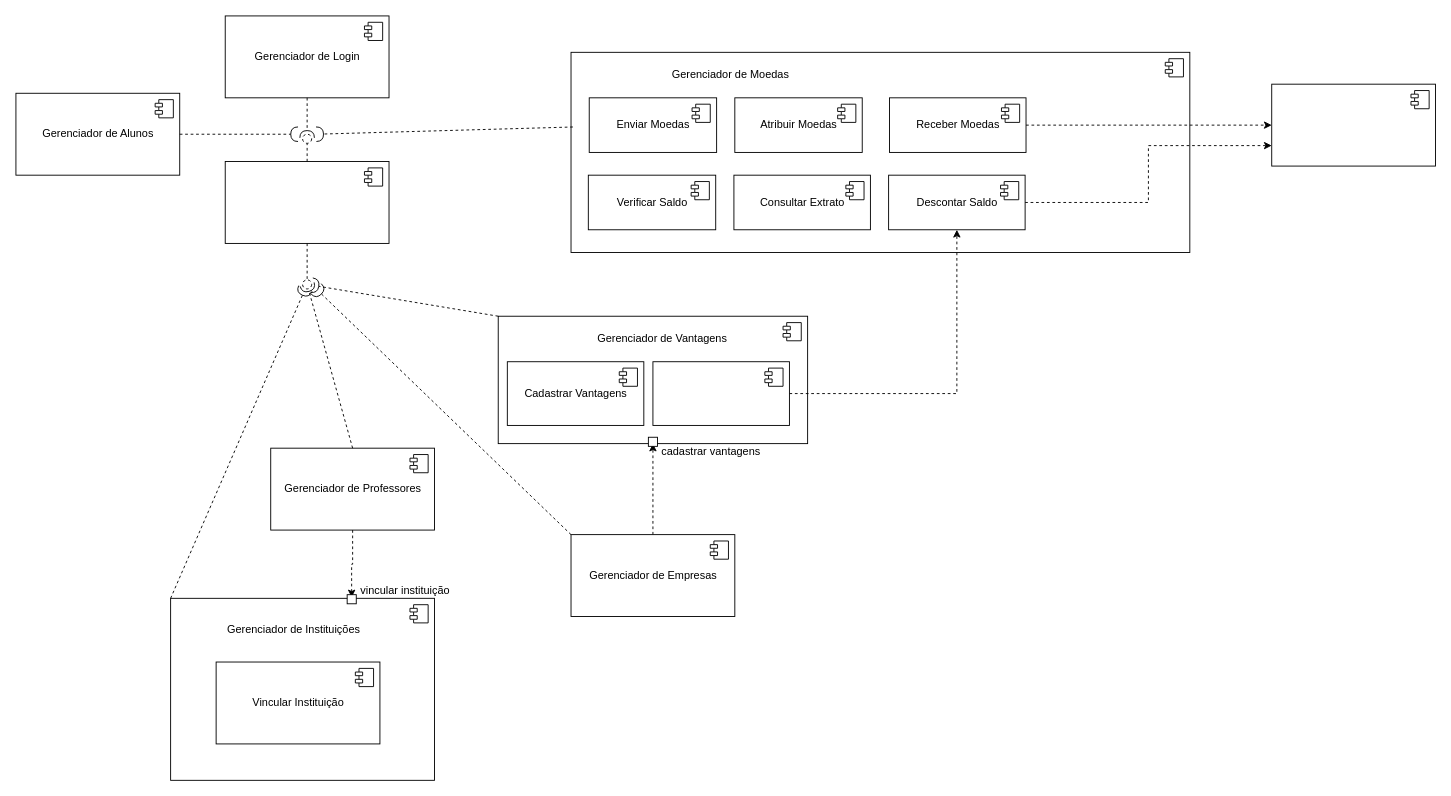
Image size: 1451x796. Some labels were removed from this diagram. Here are the shapes that lost their labels. From the top down, the box of each, then its label:
(1271, 83, 1436, 166): Notificar por Email
(224, 161, 389, 243): SGBD
(652, 361, 789, 425): Resgatar Vantagens
